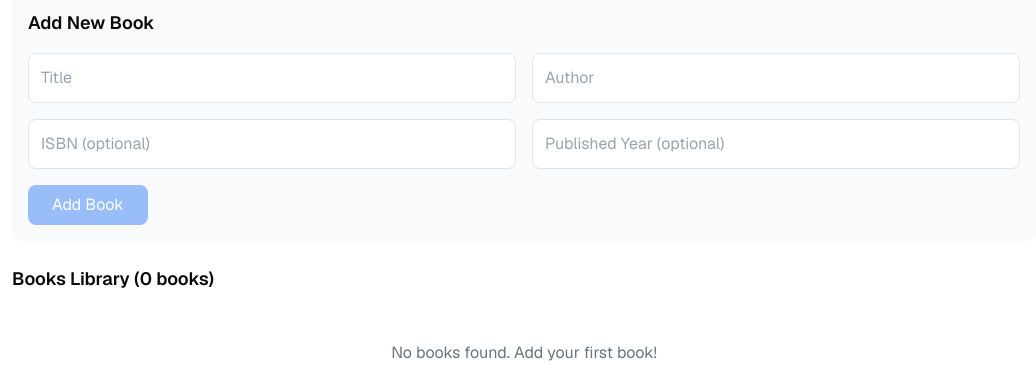
Test case: BooksClient › handles loading state
Type "Test Book" into the field with placeholder "Title". click: (272, 78)
box: [28,53,516,103]
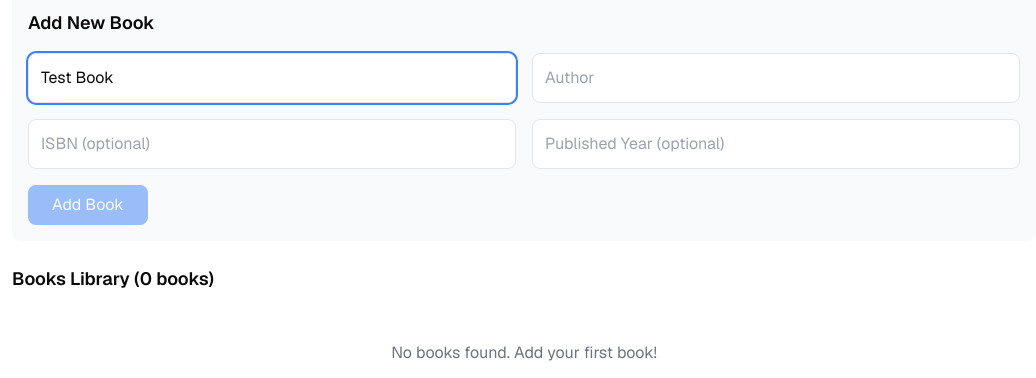
Type "Test Author" into the field with placeholder "Author". click: (776, 78)
box: [532,53,1020,103]
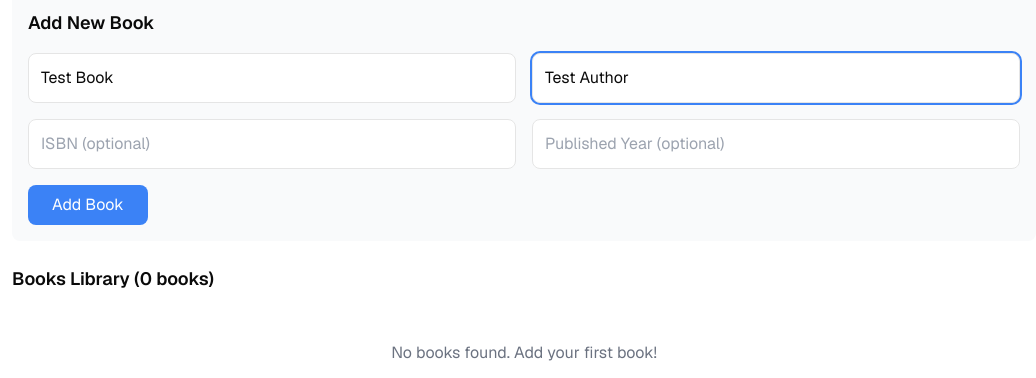
Click the button "Add Book". click: (88, 205)
box: [28,185,148,225]
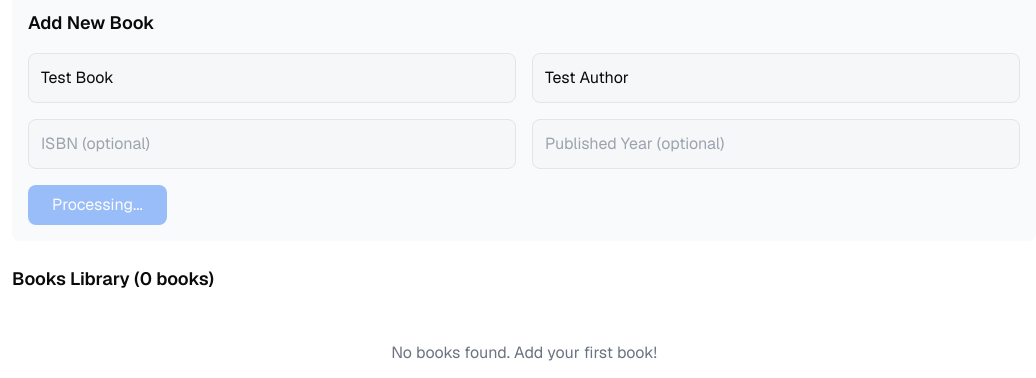
Expected: the 1st field with placeholder "Title" is disabled, [28,53,516,103]
Now the button "Processing..." is shown, box [28,185,167,225]
